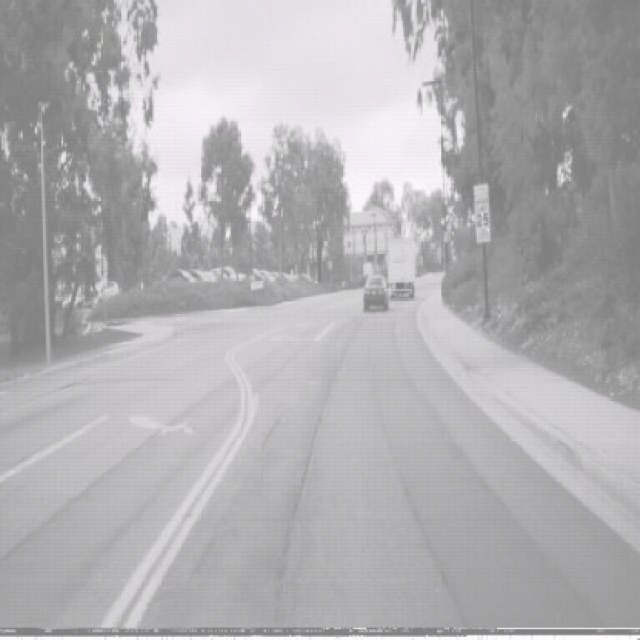schoolSpeedLimit25: (472, 183, 491, 243)
